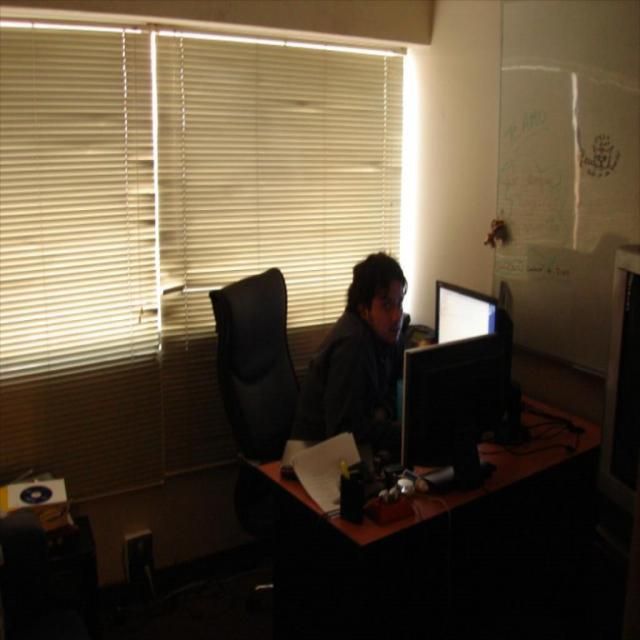others: (194, 248, 578, 520)
